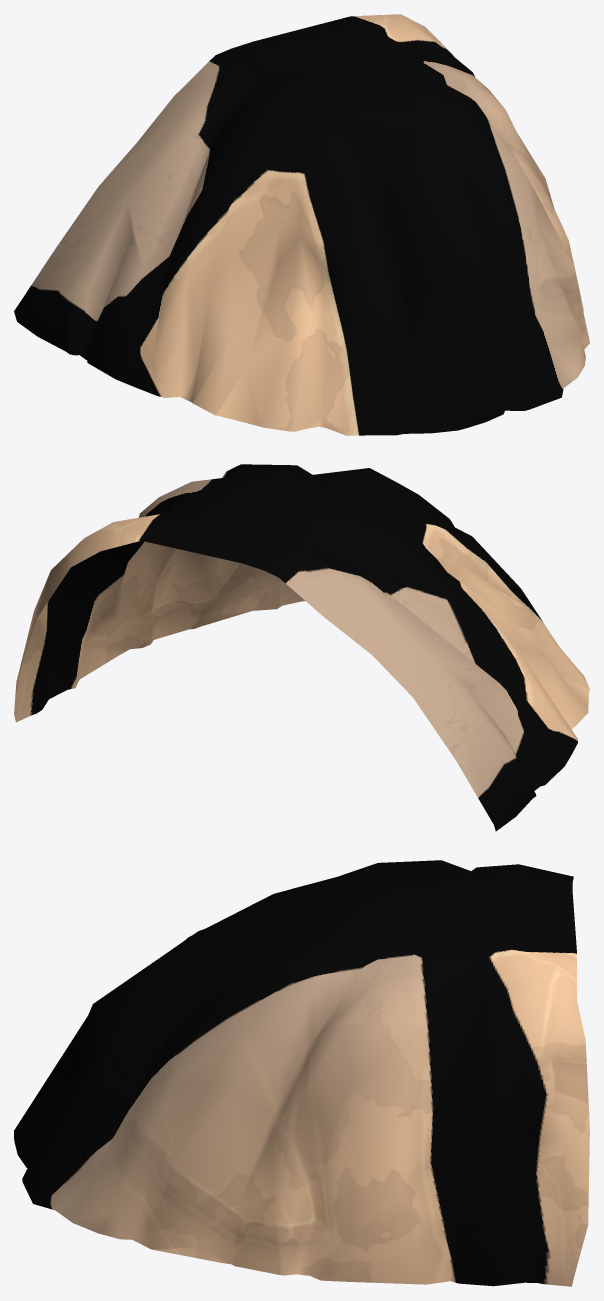
The model's file is Slope_2.fbx.
The picture shows the model from 3 angles, top to bottom: view 1: azimuth 30°, elevation 25°; view 2: azimuth 150°, elevation 25°; view 3: azimuth 270°, elevation 25°; orthographic projection. The views are drawn at different scales.
Visible parts, largest first — view 1: Slope_2_LOD0; view 2: Slope_2_LOD0; view 3: Slope_2_LOD0.
Boxes of the visible parts, left/top/right/bottom form: Slope_2_LOD0: left=14, top=14, right=589, bottom=435; Slope_2_LOD0: left=14, top=464, right=589, bottom=831; Slope_2_LOD0: left=14, top=860, right=589, bottom=1286.
Size of what is drawn, in the model's own units: 198 by 89.57 by 172.
